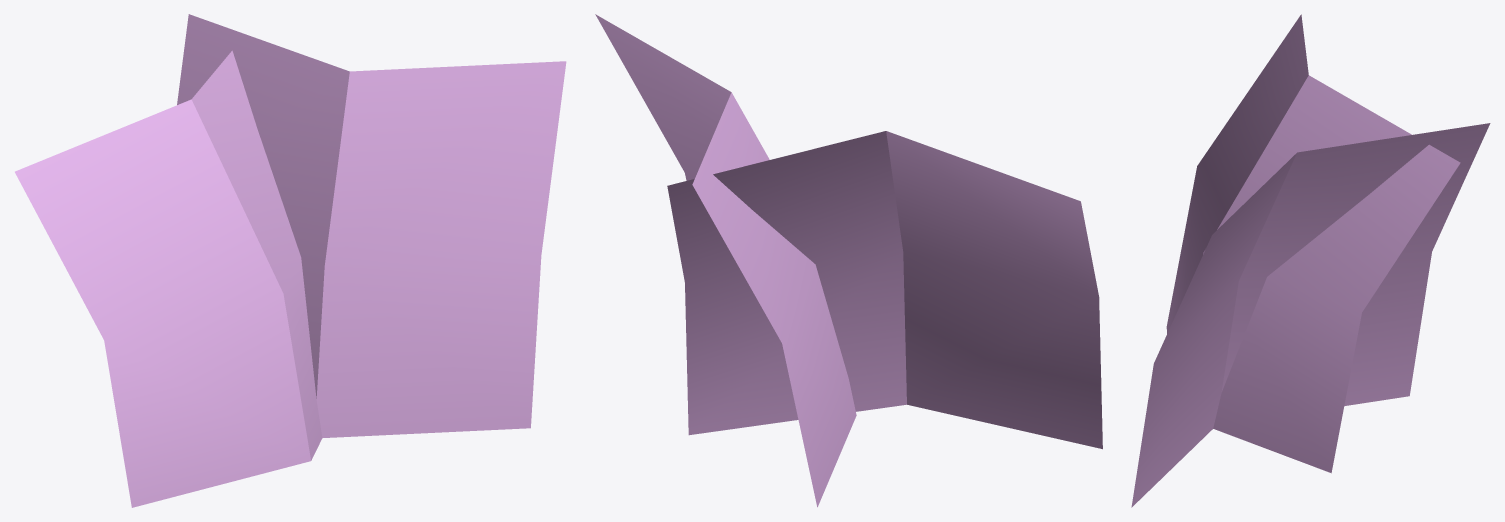
3 renders of one model, left to right at view 1: azimuth 30°, elevation 25°; view 2: azimuth 150°, elevation 25°; view 3: azimuth 270°, elevation 25°, orthographic. The views are drawn at different scales.
Visible parts, largest first — view 1: Object18; view 2: Object18; view 3: Object18.
Part boxes in pixels (x1=…): Object18: x1=15, y1=14, x2=566, y2=507; Object18: x1=595, y1=14, x2=1102, y2=507; Object18: x1=1131, y1=14, x2=1490, y2=507.
Size of the model in its own units: 116 by 70.78 by 73.21.
